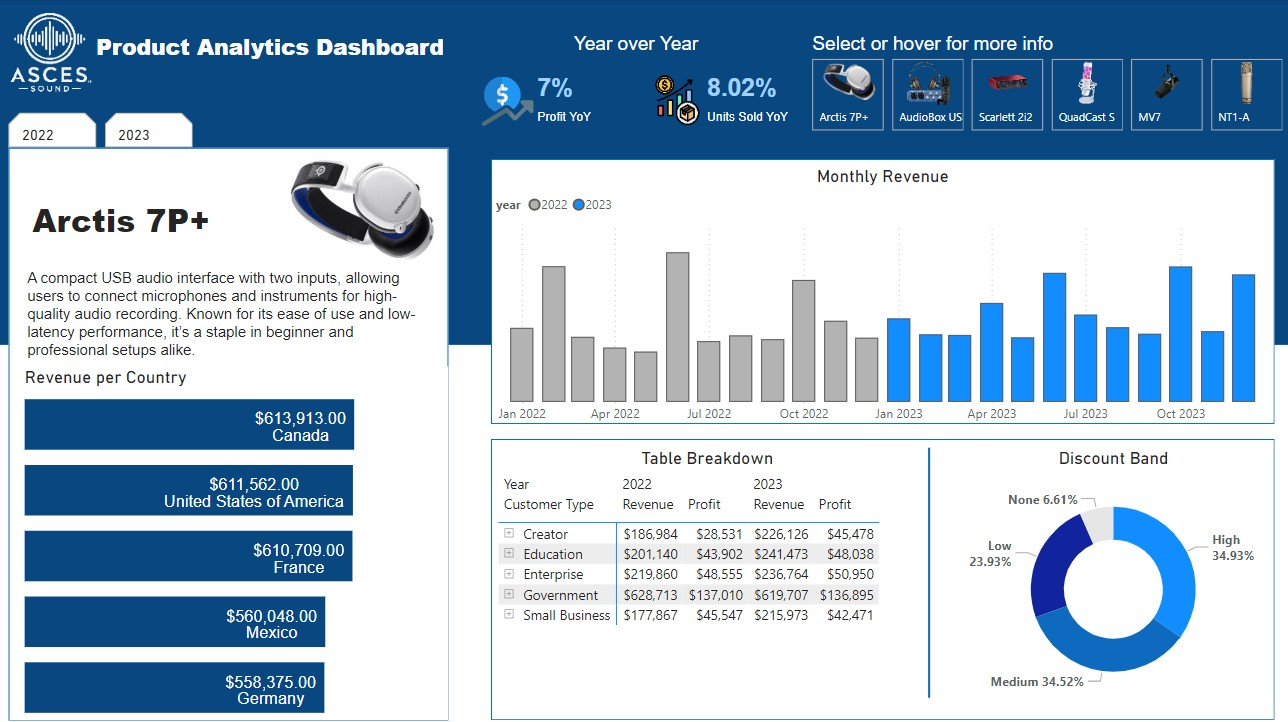

What the dashboard file says about the page in this screenshot:
{"tool":"powerbi","page":{"name":"Dashboard","canvas":[1280,720],"ordinal":0},"visuals":[{"type":"shape","box":[17.1,0,1263.2,338.7],"z":0},{"type":"shape","box":[27,145.5,430.4,561.3],"z":1000},{"type":"shape","box":[498.9,156.5,766.7,259.2],"z":2000},{"type":"shape","box":[498.9,430.4,766.7,275.1],"z":3000},{"type":"advancedSlicerVisual","title":"Select or hover for more info","fields":{"Values":["Query1.Image_url"]},"box":[808.3,33,472,101.5],"z":4000},{"type":"cardVisual","fields":{"Data":["Min(Query1.Product)"]},"box":[33,119.8,430.4,184.6],"z":5000},{"type":"cardVisual","fields":{"Data":["Min(Query1.Description)"]},"box":[28.2,226.2,418.2,156.5],"z":6000},{"type":"clusteredBarChart","title":"Revenue per Country","fields":{"Category":["Query1.Country"],"Y":["Sum(Query1.revenue)"]},"box":[38,359.5,419.4,346.1],"z":7000},{"type":"columnChart","title":"Monthly Revenue","fields":{"Category":["Query1.Date"],"Y":["Sum(Query1.revenue)"],"Series":["Query1.year"]},"box":[498.9,162.6,766.7,261.7],"z":8000},{"type":"donutChart","title":"Discount Band","fields":{"Category":["Query1.Discount_Band"],"Y":["Sum(Query1.revenue)"]},"box":[959.9,439,295.9,258],"z":9000},{"type":"pivotTable","title":"Table Breakdown","fields":{"Rows":["Query1.Customer_Type","Query1.Product"],"Values":["Sum(Query1.revenue)","Sum(Query1.Profit)"],"Columns":["Query1.year"]},"box":[501.4,439,418.2,258],"z":10000},{"type":"shape","box":[777.7,439,299.6,244.6],"z":11000},{"type":"cardVisual","title":"Year over Year","fields":{"Data":["Query1.Profit YoY","Query1.Units Sold YoY"]},"box":[473.2,33,335.1,114.9],"z":12000},{"type":"advancedSlicerVisual","fields":{"Values":["Calendar.Date.Variation.Date Hierarchy.Year"]},"box":[22,106.4,192,44],"z":13000},{"type":"textbox","box":[107.6,26.9,365.6,40.4],"z":14000},{"type":"image","box":[11,0,105.2,101.5],"z":15000}]}

Visuals, with their boxes in screenshot pixels (x1, y1, x2, y2), scaled from the page's 1280x720 canvas onto the 1288x722 screenshot:
shape: <box>17,0,1287,340</box>
shape: <box>27,146,460,709</box>
shape: <box>502,157,1274,417</box>
shape: <box>502,432,1274,707</box>
"Select or hover for more info" advancedSlicerVisual: <box>813,33,1287,135</box>
cardVisual - Min(Query1.Product): <box>33,120,466,305</box>
cardVisual - Min(Query1.Description): <box>28,227,449,384</box>
"Revenue per Country" clusteredBarChart: <box>38,360,460,708</box>
"Monthly Revenue" columnChart: <box>502,163,1274,425</box>
"Discount Band" donutChart: <box>966,440,1264,699</box>
"Table Breakdown" pivotTable: <box>505,440,925,699</box>
shape: <box>783,440,1084,685</box>
"Year over Year" cardVisual: <box>476,33,813,148</box>
advancedSlicerVisual - Calendar.Date.Variation.Date Hierarchy.Year: <box>22,107,215,151</box>
textbox: <box>108,27,476,67</box>
image: <box>11,0,117,102</box>
